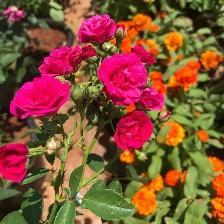rose: (99, 51, 148, 109), (10, 76, 73, 119), (40, 43, 101, 78), (112, 109, 157, 151), (76, 11, 118, 45), (1, 142, 31, 185)
